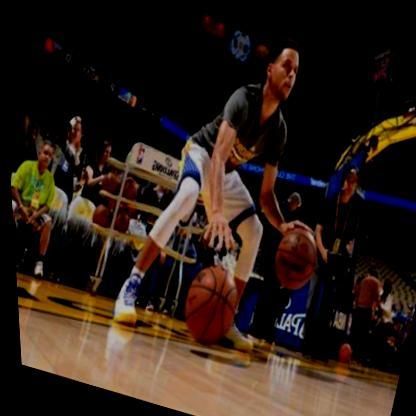basketball: (169, 258, 245, 352), (262, 222, 323, 296)
